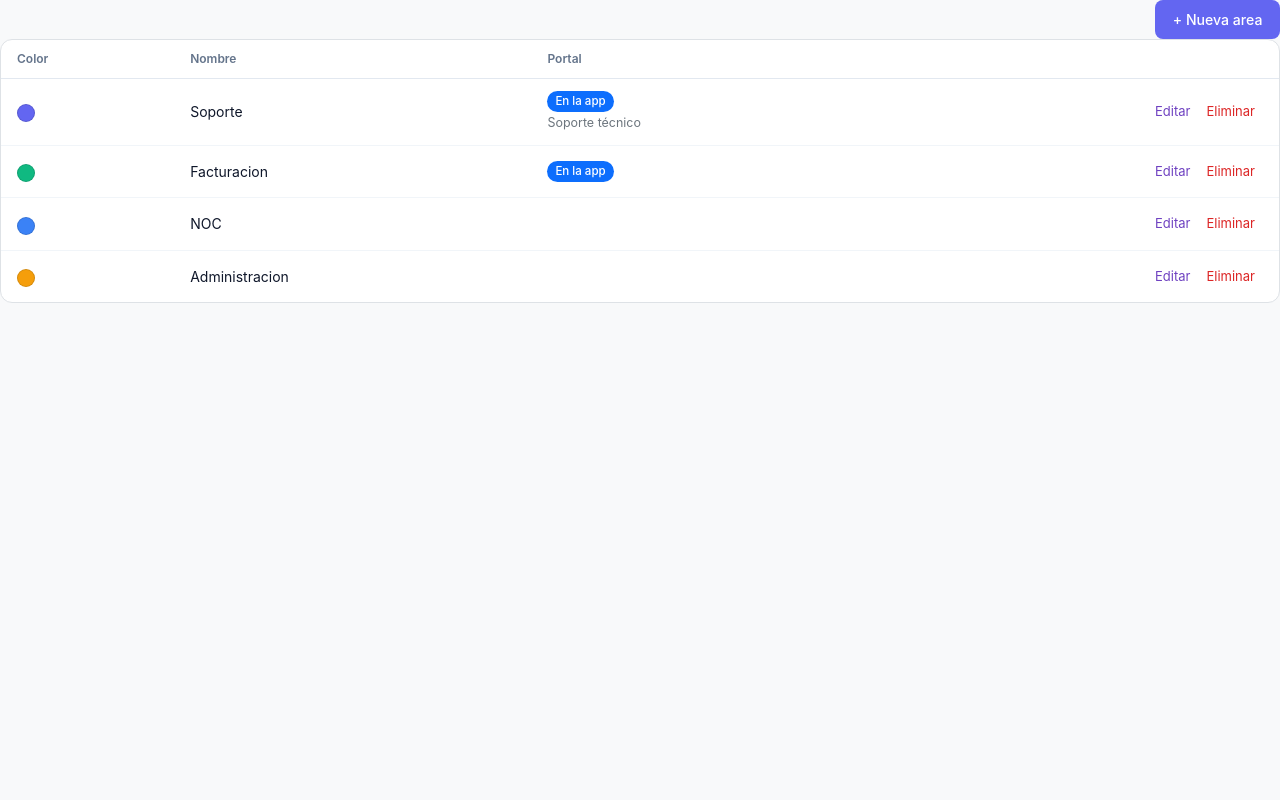
Test case: TicketAreasBody › shows conflict error when create returns TICKET_AREA_NAME_CONFLICT
This screenshot has width=1280, height=800.
Click the button "+ Nueva area" at (1218, 19), box x1=1155 y1=0 x2=1279 y2=39
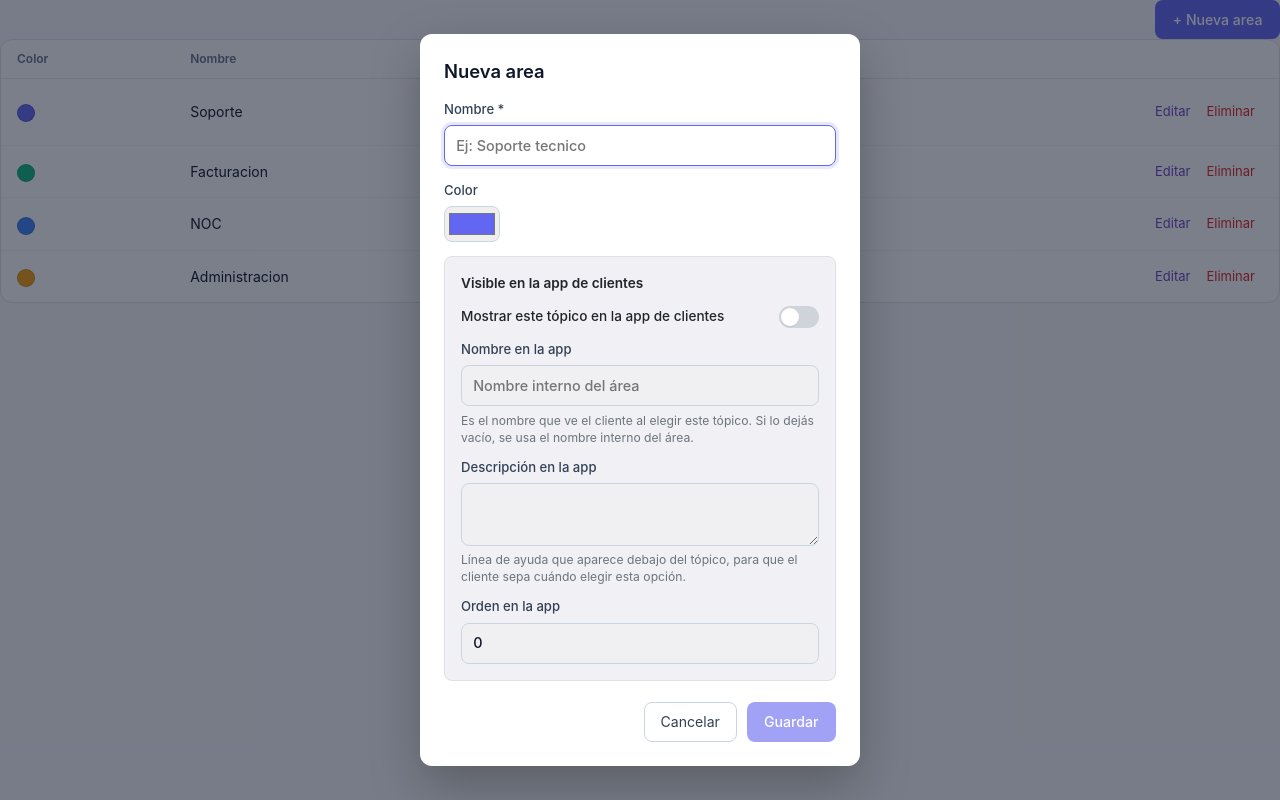
Type "Soporte" into the field with placeholder "Ej: Soporte tecnico" at (640, 146), box x1=444 y1=125 x2=836 y2=166
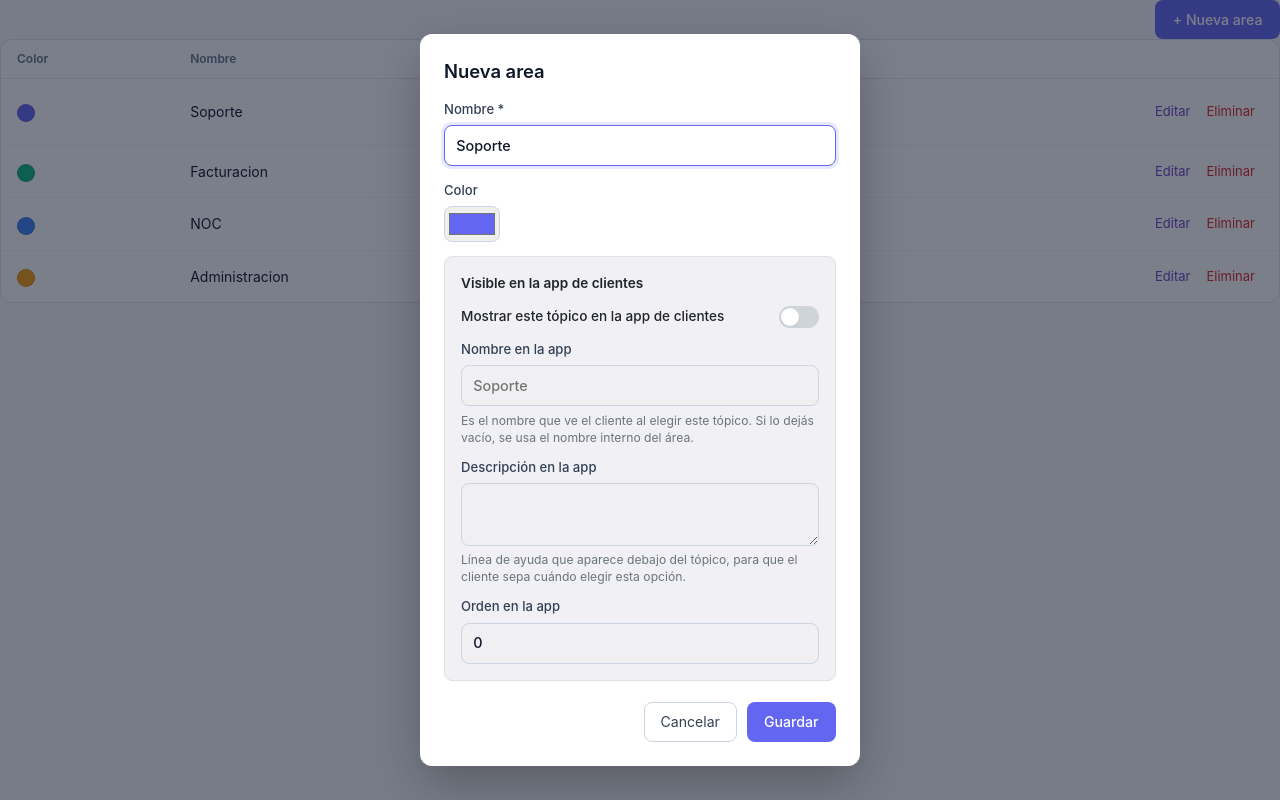
Click the button "Guardar" at (791, 722), box x1=746 y1=702 x2=836 y2=742
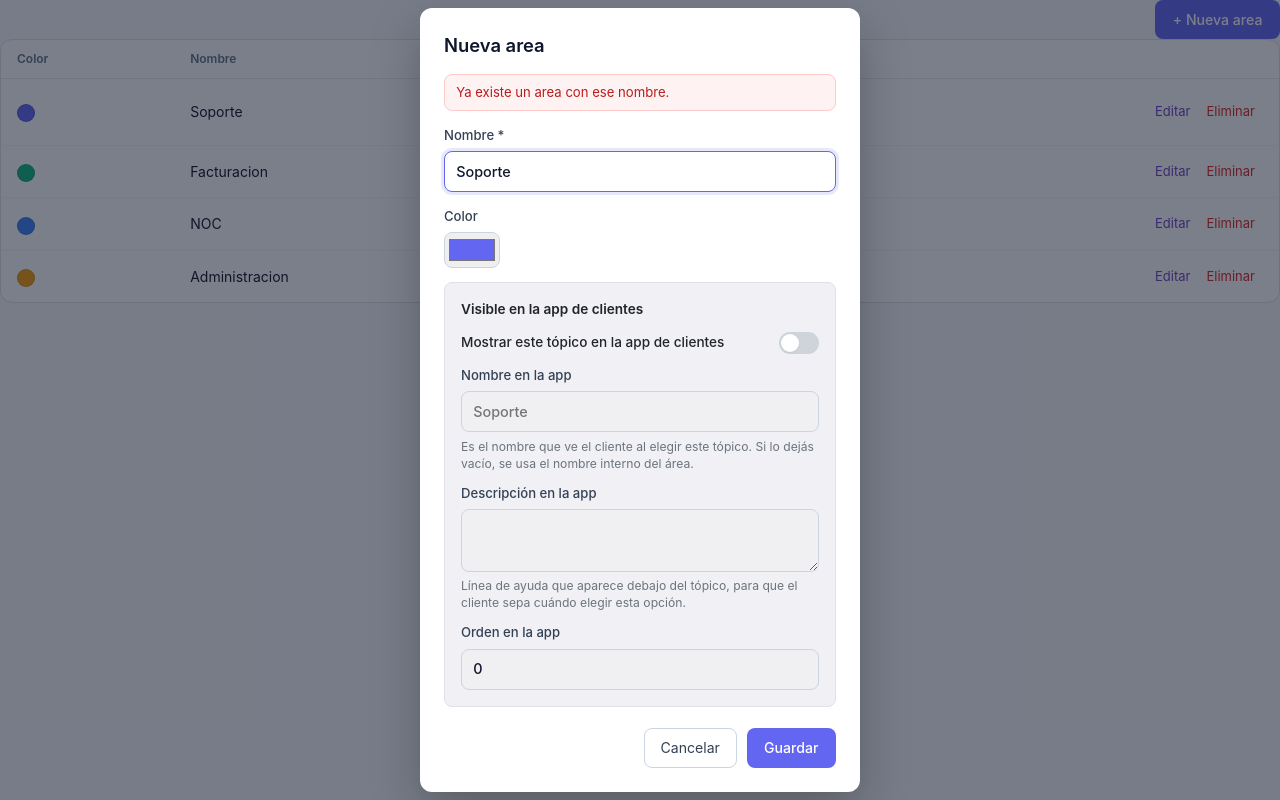
Check: the text "Ya existe un area con ese nombre." is shown, box x1=444 y1=74 x2=836 y2=111
